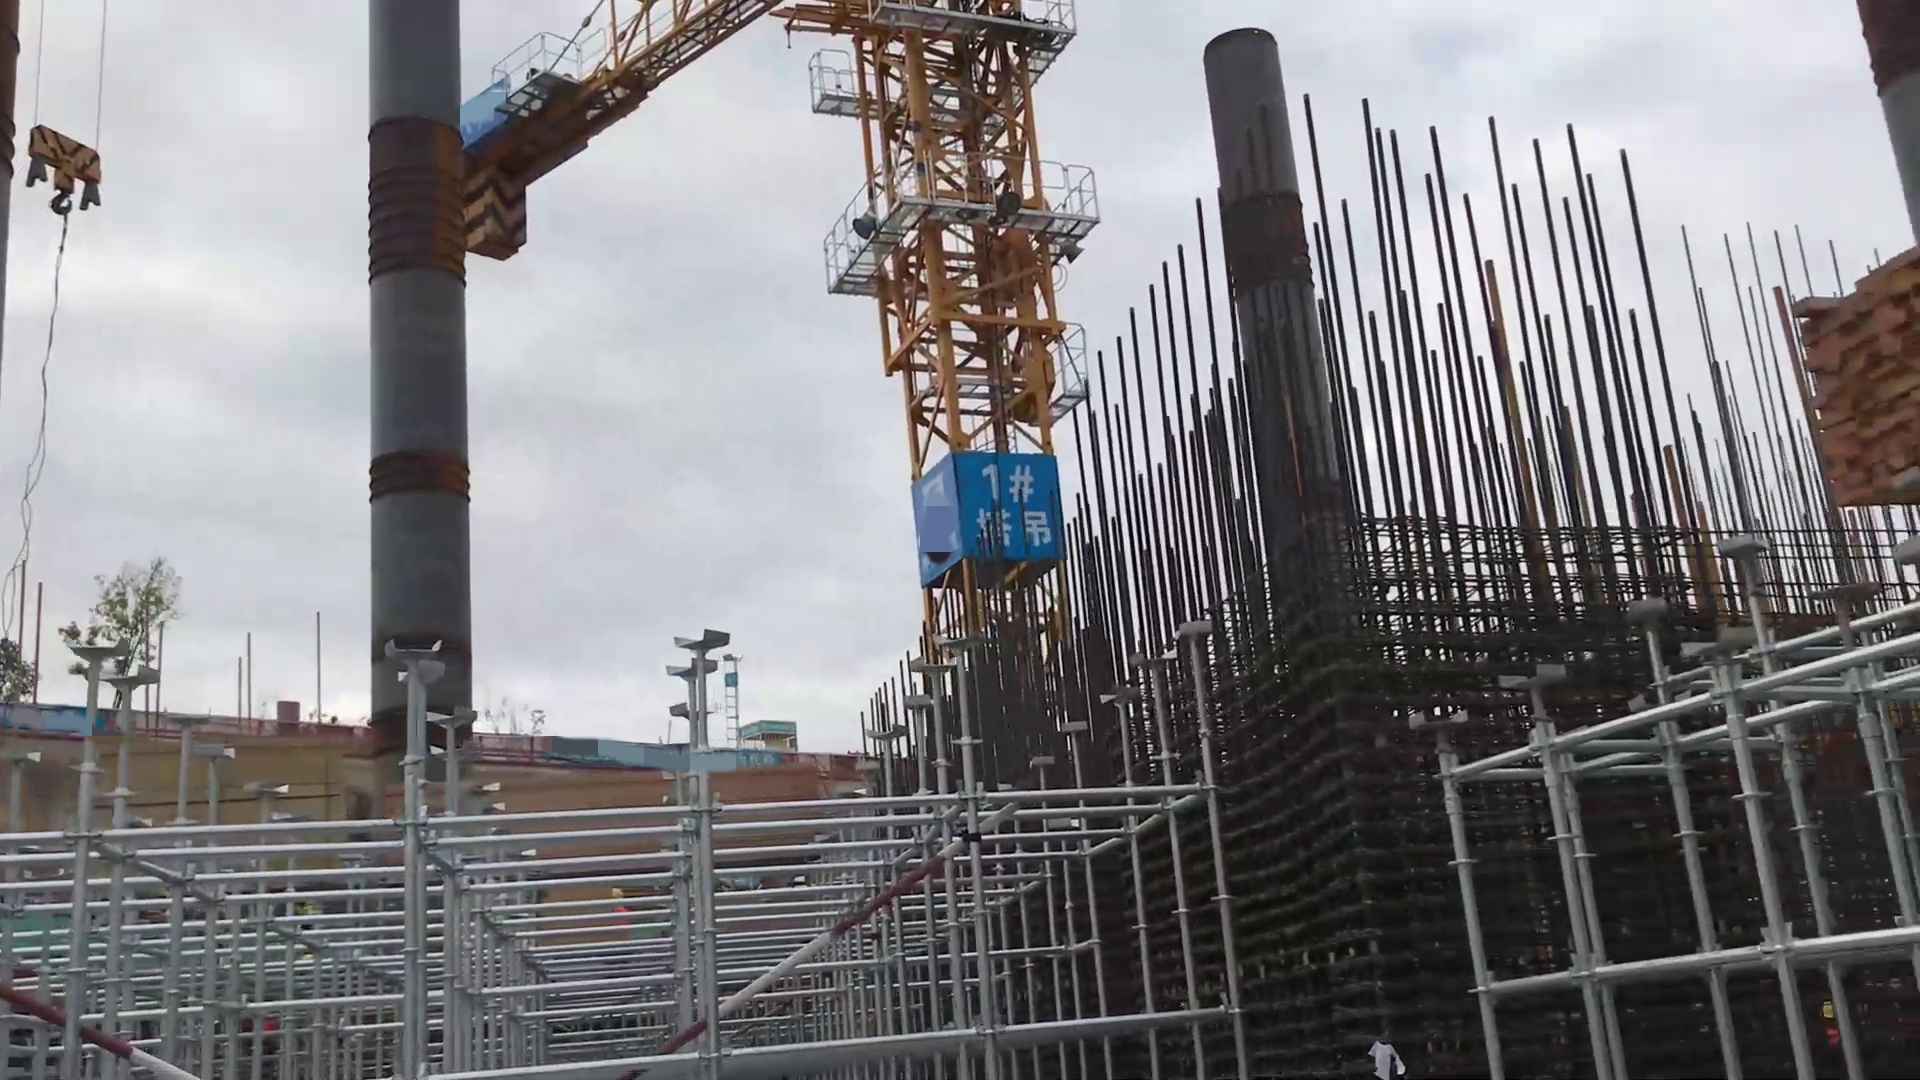hook: (18, 120, 119, 239)
wood: (1782, 235, 1920, 518)
